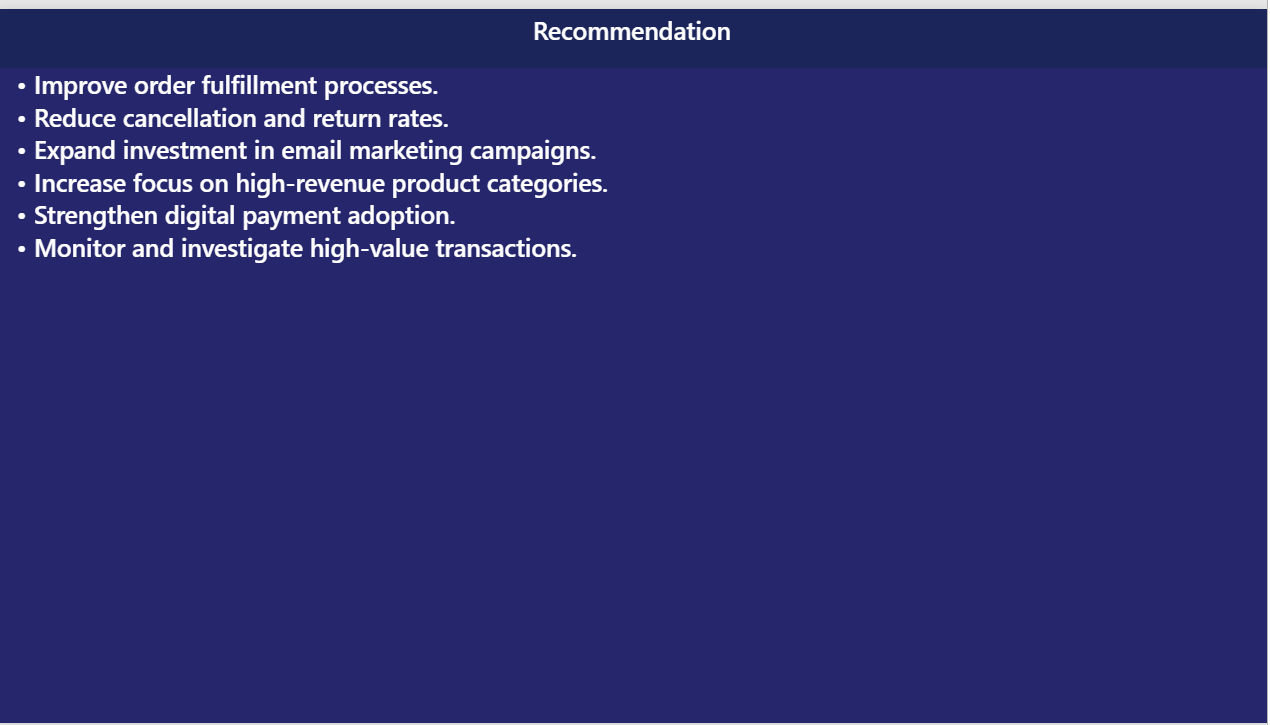

The dashboard page shown, as its layout file describes it:
{"tool":"powerbi","page":{"name":"Recommendation","canvas":[1920,1080],"ordinal":1},"visuals":[{"type":"shape","box":[0,0,1920,89.2],"z":0},{"type":"textbox","box":[0,7.6,1920,74.1],"z":1000},{"type":"textbox","box":[0,89.2,947.9,990.2],"z":2000}]}

Visuals, with their boxes in screenshot pixels (x1, y1, x2, y2), scaled from the page's 1920x1080 canvas onto the 1270x725 screenshot:
shape: rect(0, 0, 1269, 60)
textbox: rect(0, 5, 1269, 55)
textbox: rect(0, 60, 627, 724)
